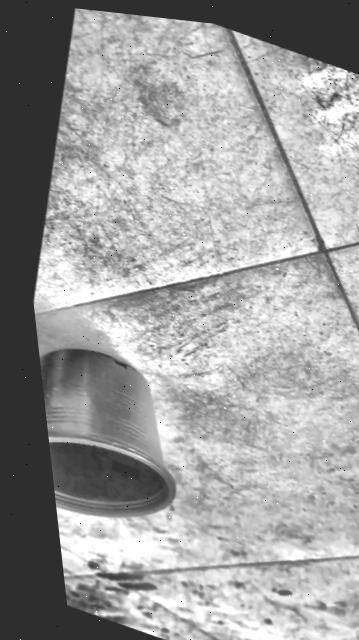pot: (36, 328, 208, 550)
